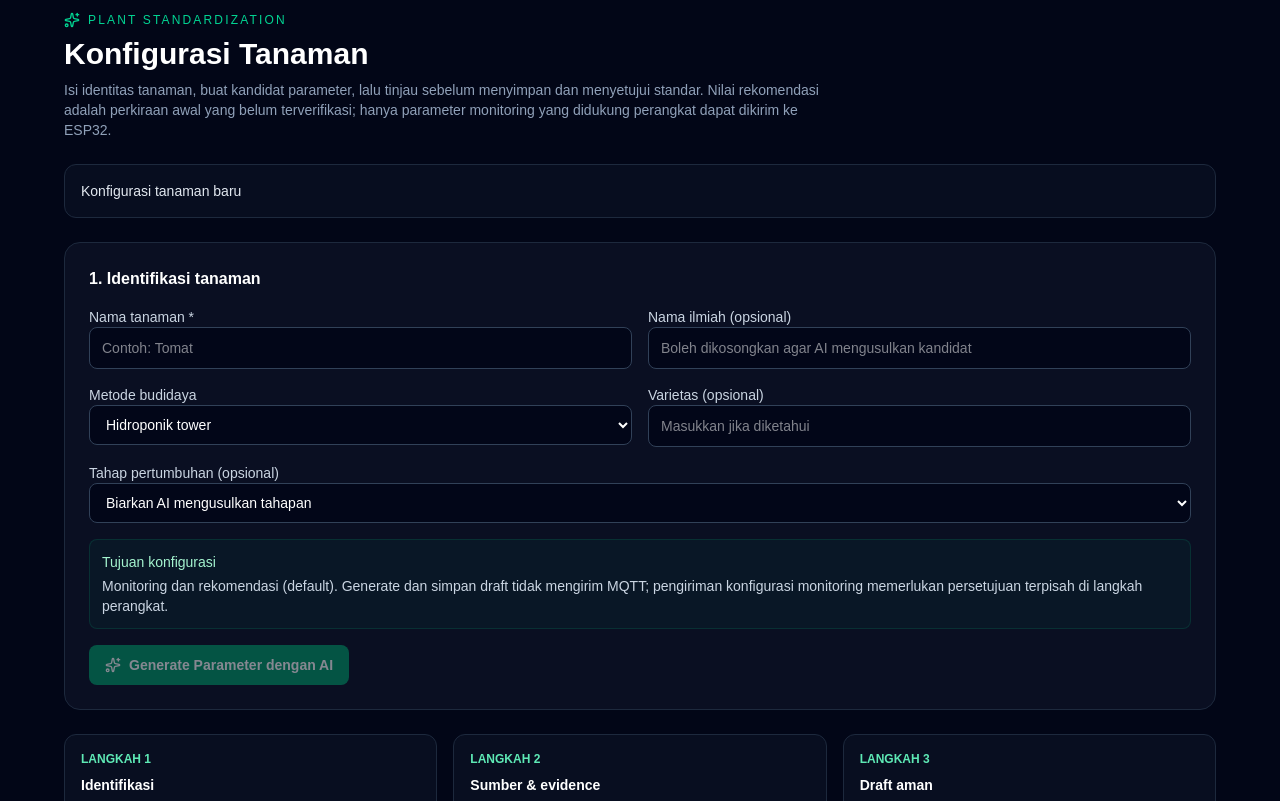
Test case: AI Plant Setup page › shows a general timeout message without internal provider details
Type "Tomat" into the field labelled "Nama tanaman *" at (360, 348), box [89,327,632,369]
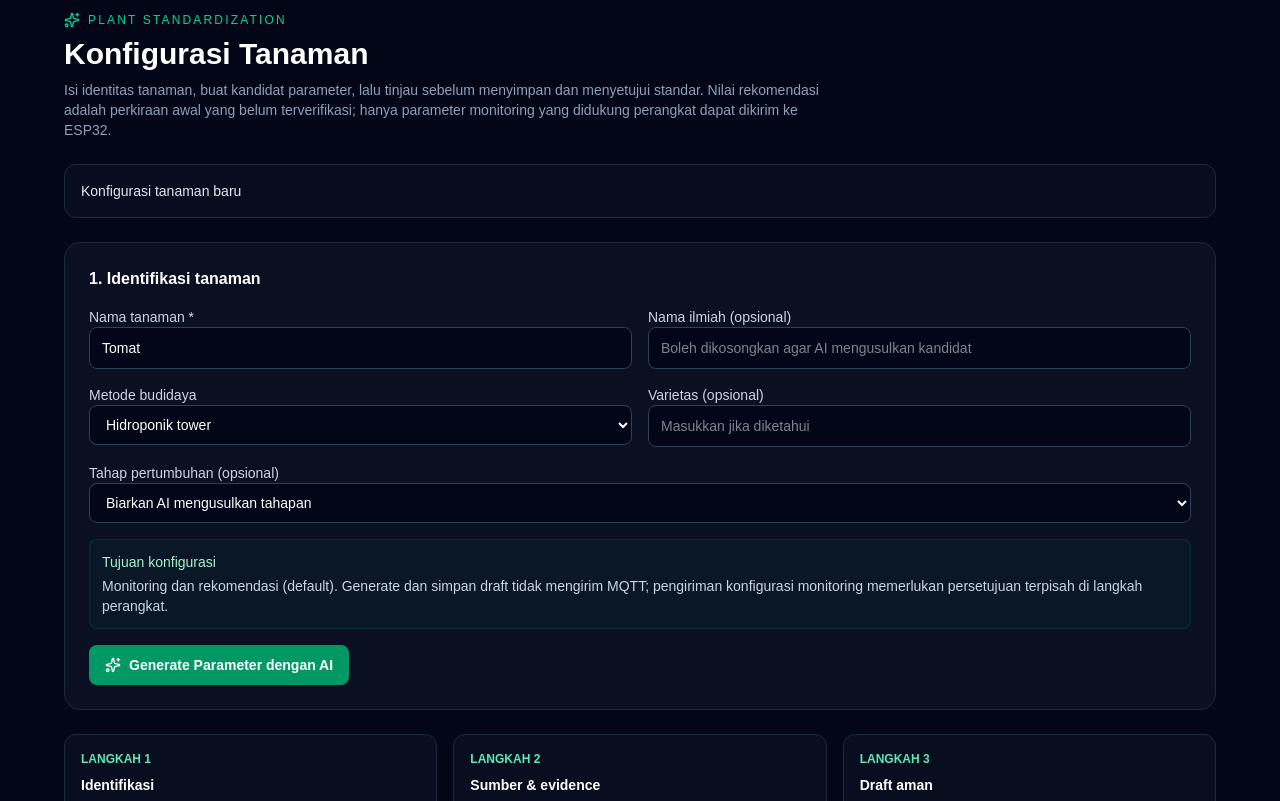
Click the button "Generate Parameter dengan AI" at (219, 665), box [89,645,349,685]
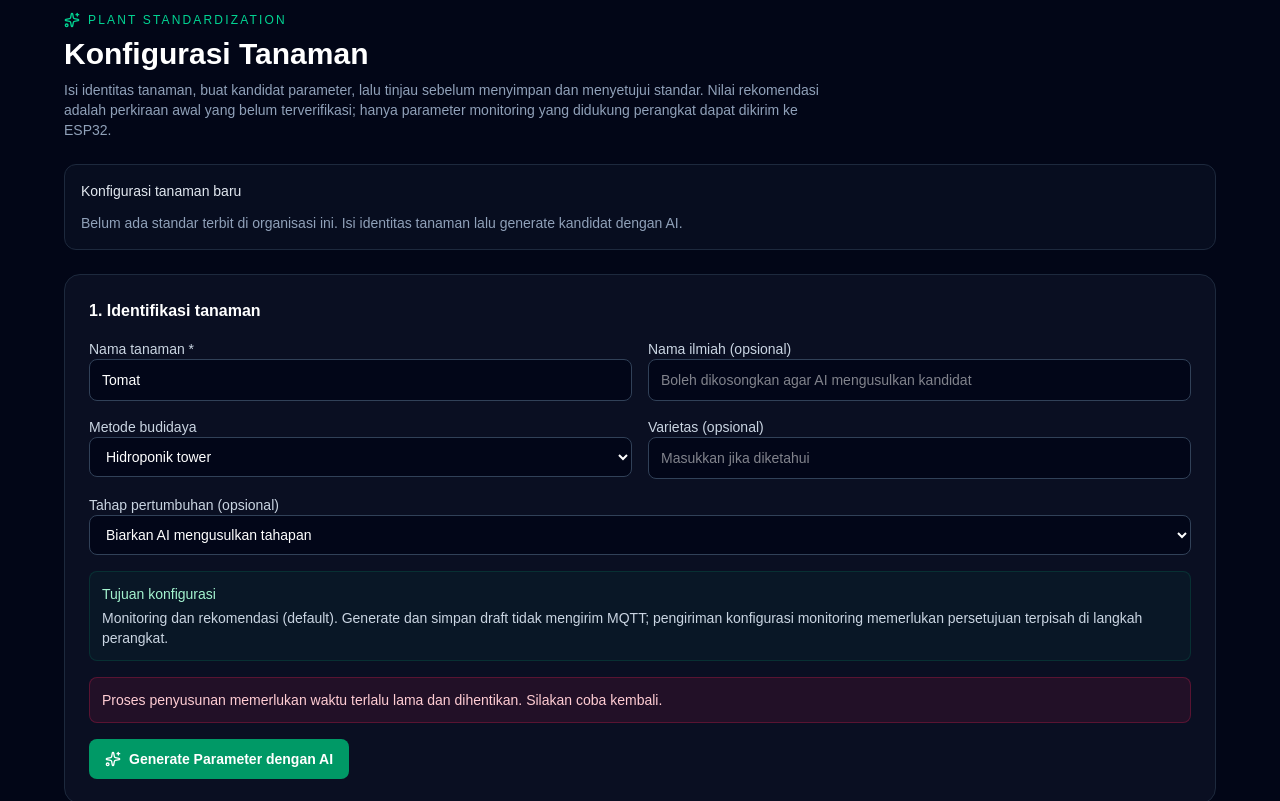
Expected: the message shows "Proses penyusunan memerlukan waktu terlalu lama", [102,692,662,708]
